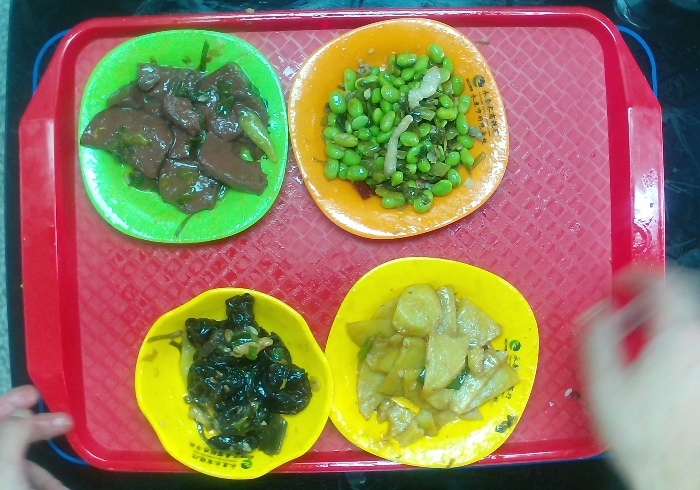YKMZ-Huang_Se_Ao_Bian_Wan: (129, 278, 336, 483)
YKMZ-Huang_Se_Fang_Die: (315, 248, 544, 476)
YKMZ-Ju_Se_Fang_Die: (285, 13, 514, 242)
YKMZ-Lv_Se_Fang_Die: (76, 22, 292, 251)
